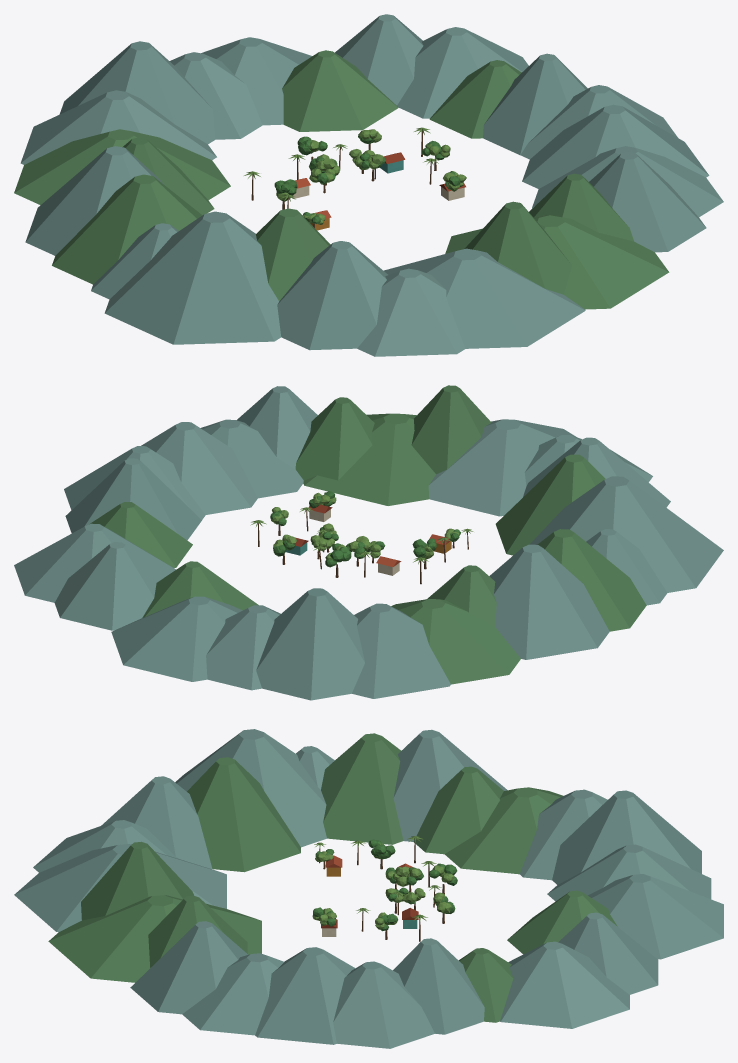
Rendered from village-backdrop.glb.
3 renders of one model, top to bottom at view 1: azimuth 30°, elevation 25°; view 2: azimuth 150°, elevation 25°; view 3: azimuth 270°, elevation 25°, orthographic. The views are drawn at different scales.
Parts seen in each view (by area): view 1: village-backdrop; view 2: village-backdrop; view 3: village-backdrop.
Part boxes in pixels (bbox=[...]): village-backdrop: bbox=[14, 14, 723, 356]; village-backdrop: bbox=[14, 385, 723, 700]; village-backdrop: bbox=[14, 729, 723, 1048].
Bounding box in the file's own units: 141 × 17.69 × 149.
